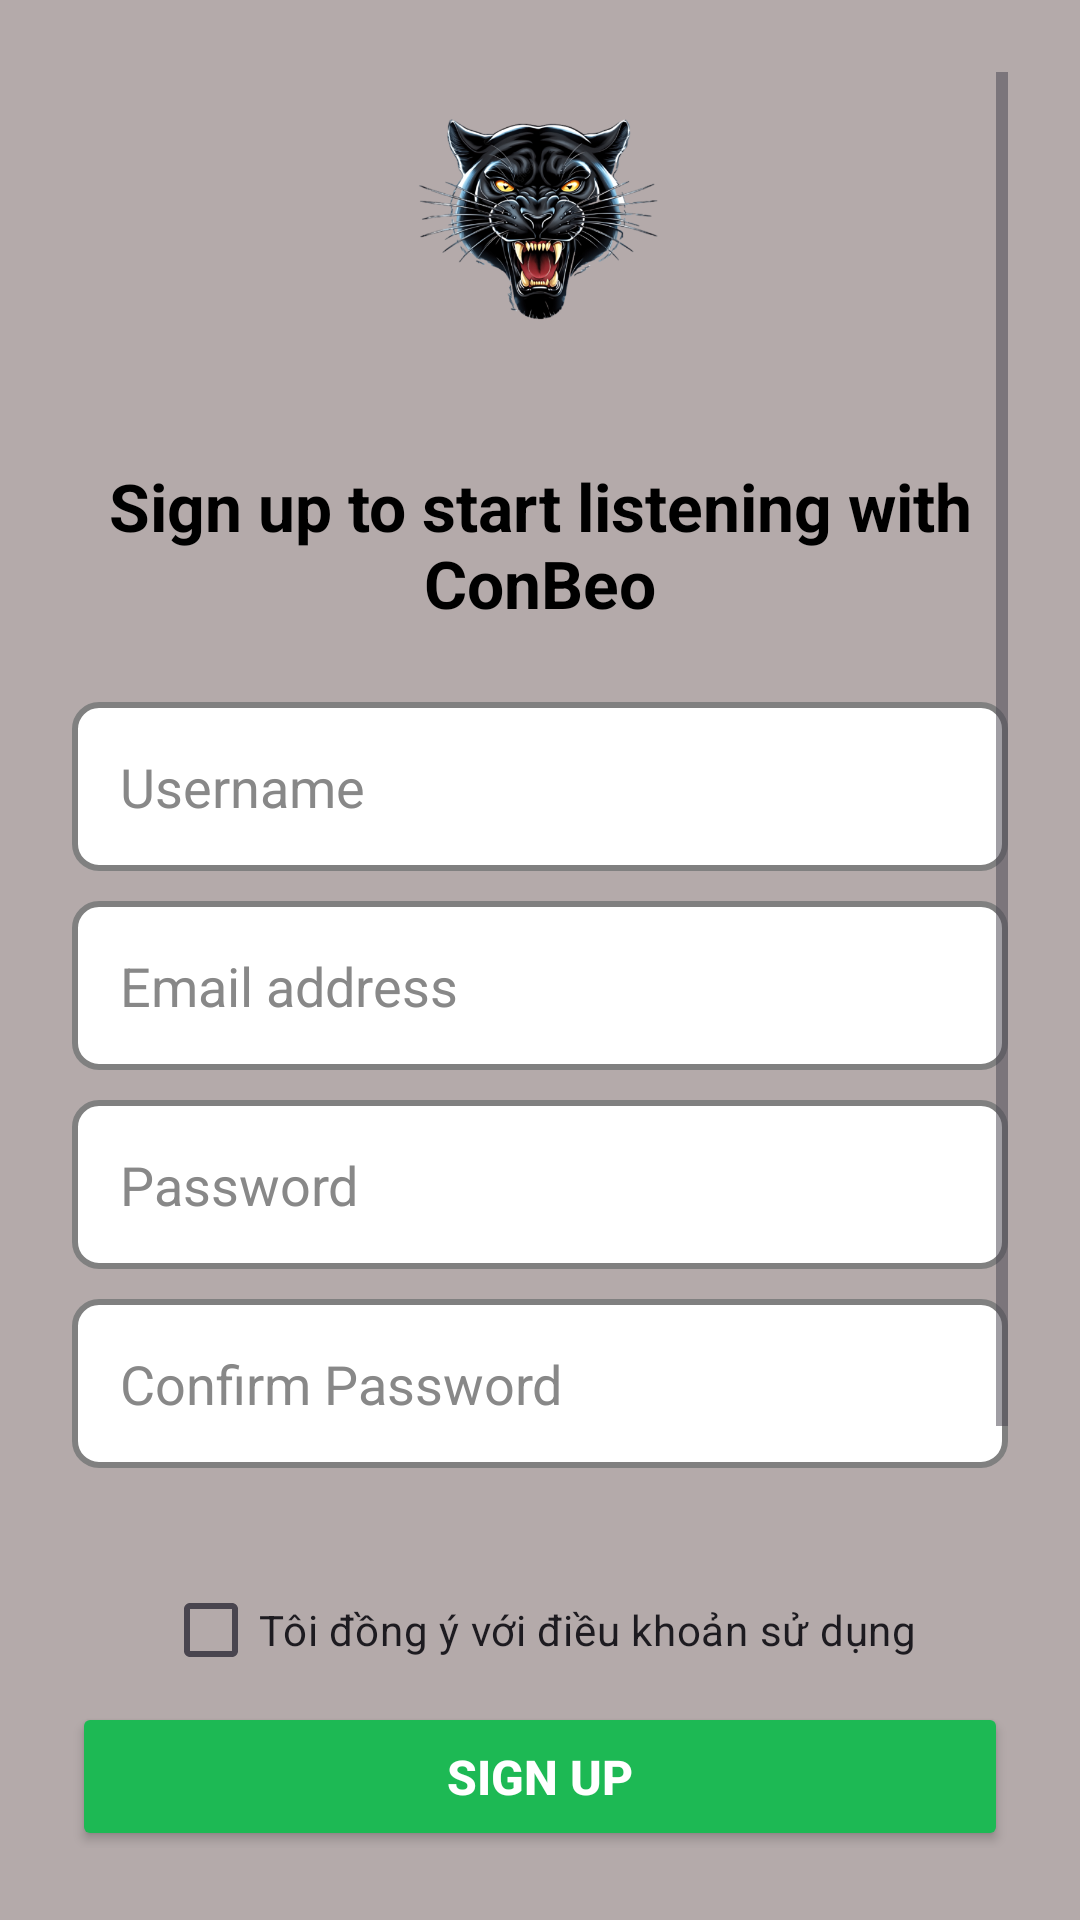

Screen size 1080x1920. Icon name, then its box in pixels as (x1, y1, x2, y2):
conbeo provip: (419, 119, 657, 319)
